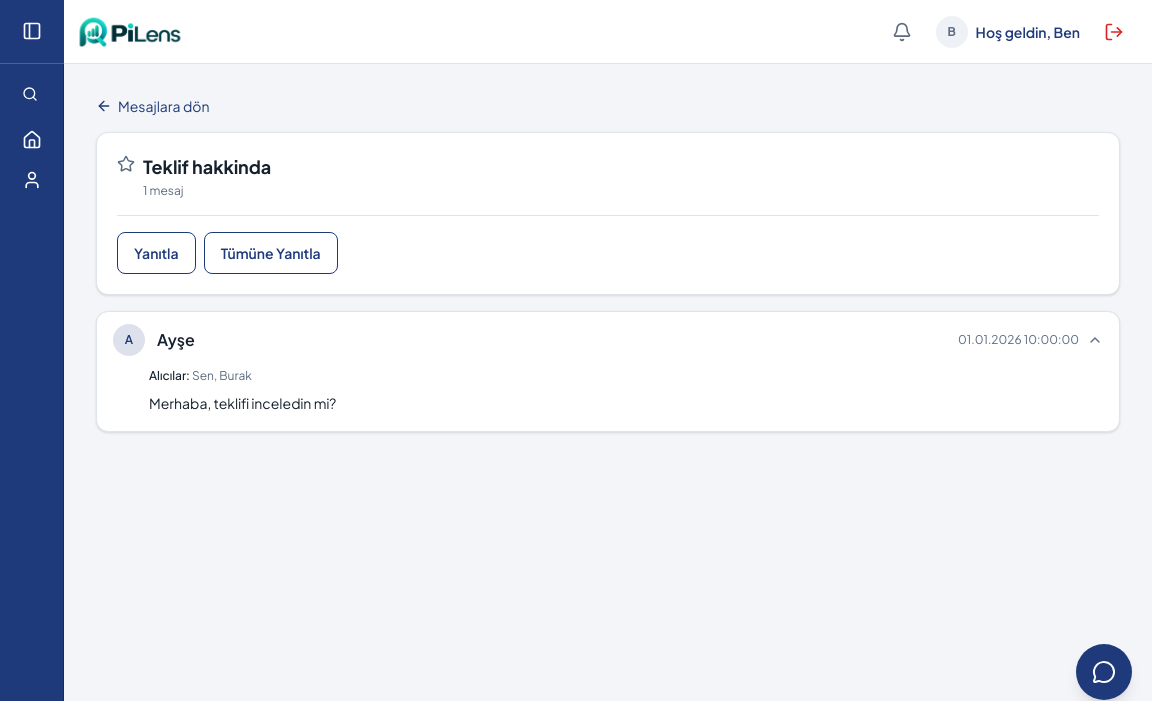
Test case: MessageDetailPage › Yanitla / Tumune Yanitla › Yanıtla sadece son mesajın göndereni ile formu açar
The width and height of the screenshot is (1152, 701).
Click the button "Yanıtla". click: (156, 253)
box: [117,232,196,274]
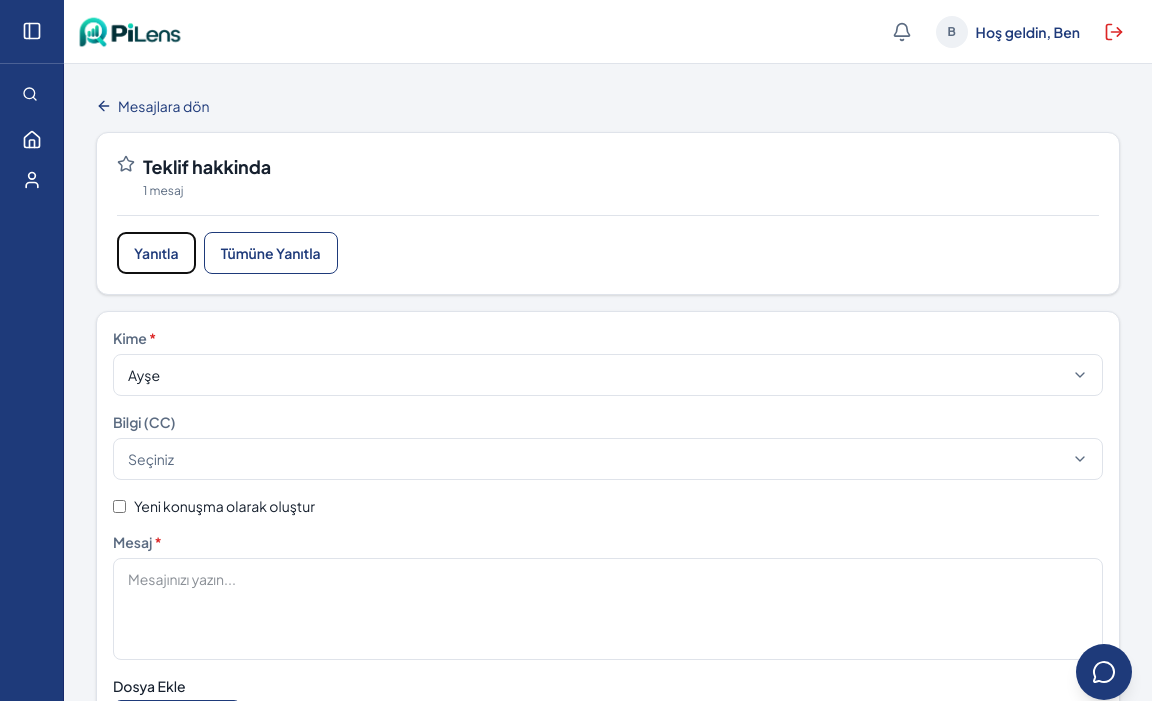
Expected: the button does not show "Burak"
Expected: the button "Ayşe" is shown, [113,354,1103,396]
